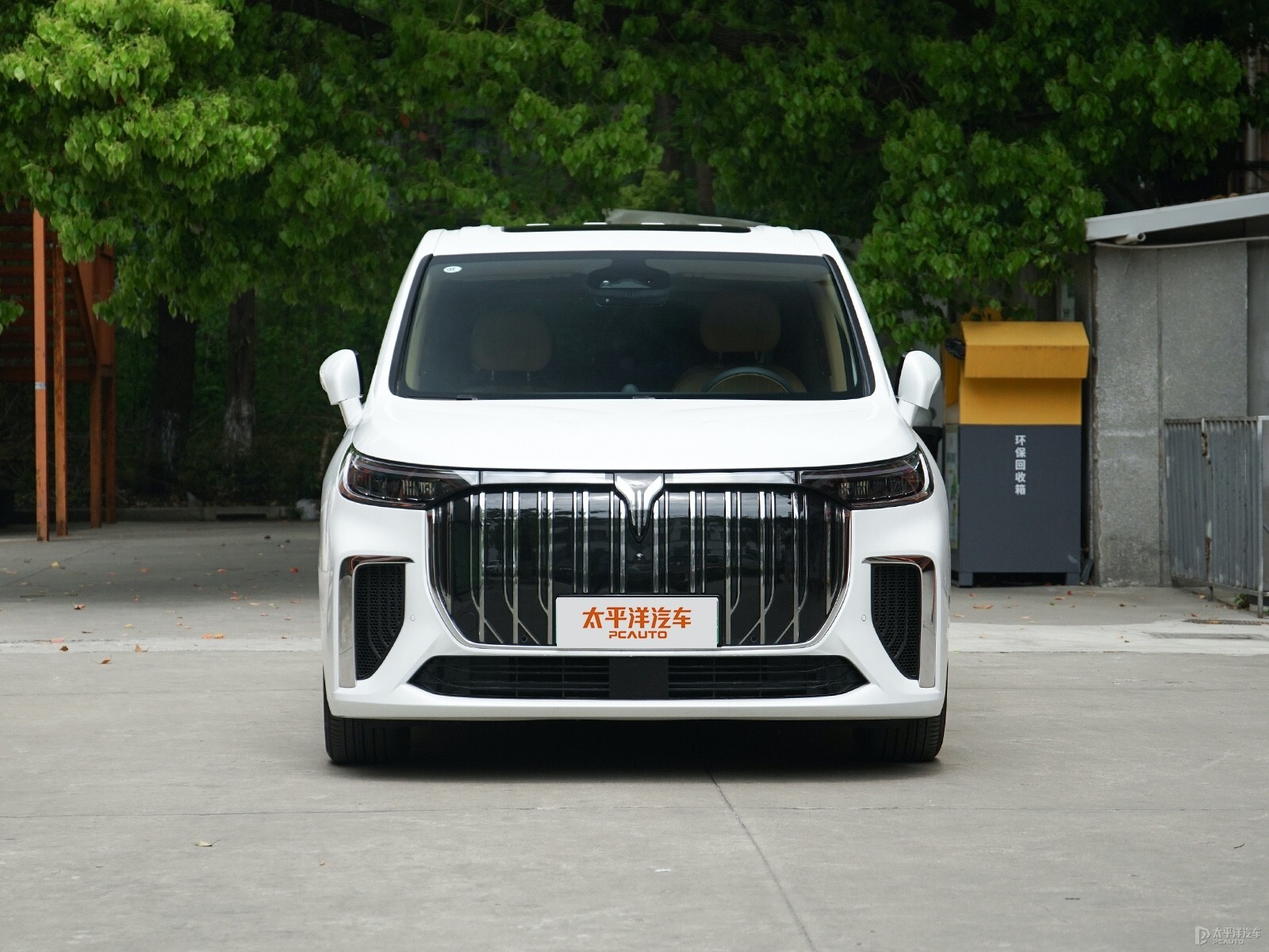VOYAH: (617, 476, 661, 536)
